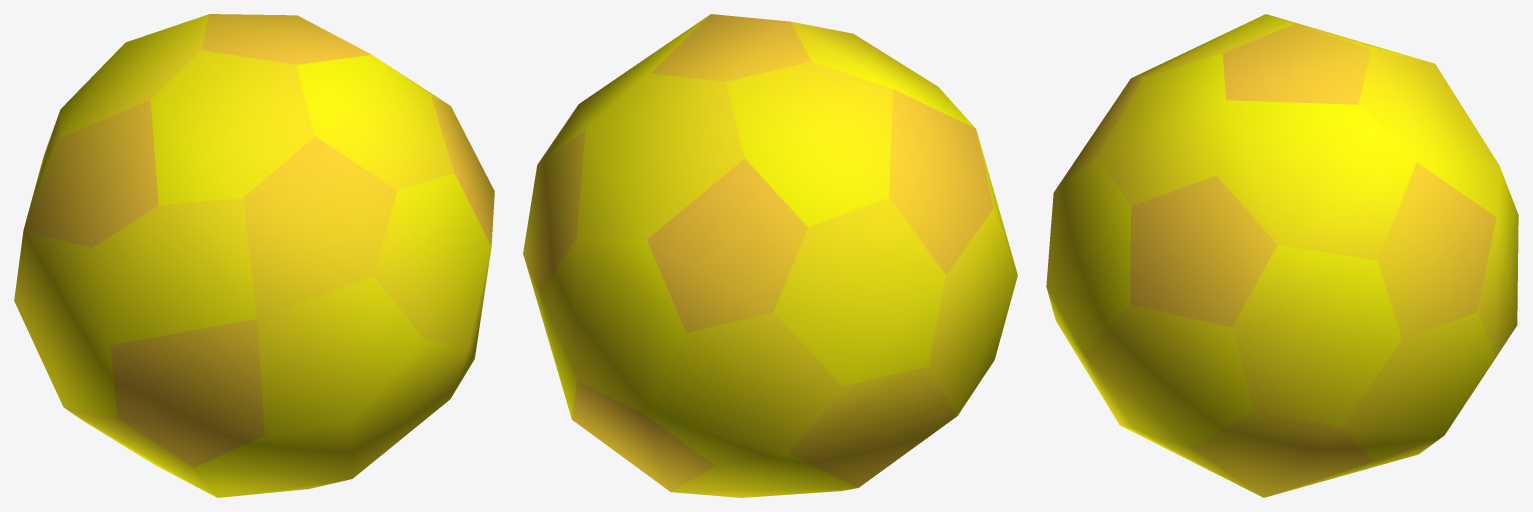
The model's file is pointer.glb.
3 renders of one model, left to right at view 1: azimuth 30°, elevation 25°; view 2: azimuth 150°, elevation 25°; view 3: azimuth 270°, elevation 25°, orthographic. The views are drawn at different scales.
Parts seen in each view (by area): view 1: Soccer Ball; view 2: Soccer Ball; view 3: Soccer Ball.
Boxes of the visible parts, box(x1,y1,x2,y2) form: Soccer Ball: box(14, 14, 494, 497); Soccer Ball: box(523, 14, 1017, 497); Soccer Ball: box(1046, 14, 1518, 497).
Size of the model in its own units: 33.08 by 32.24 by 32.99.
1 material, 1 textured.
